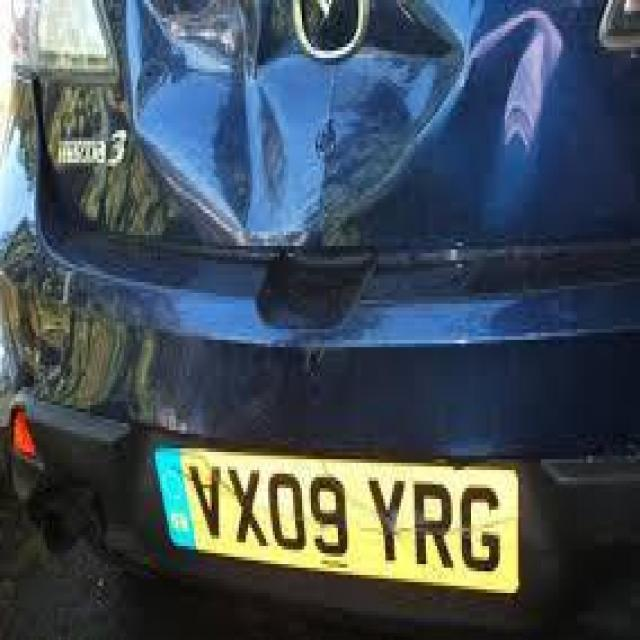damaged: (126, 3, 568, 256)
